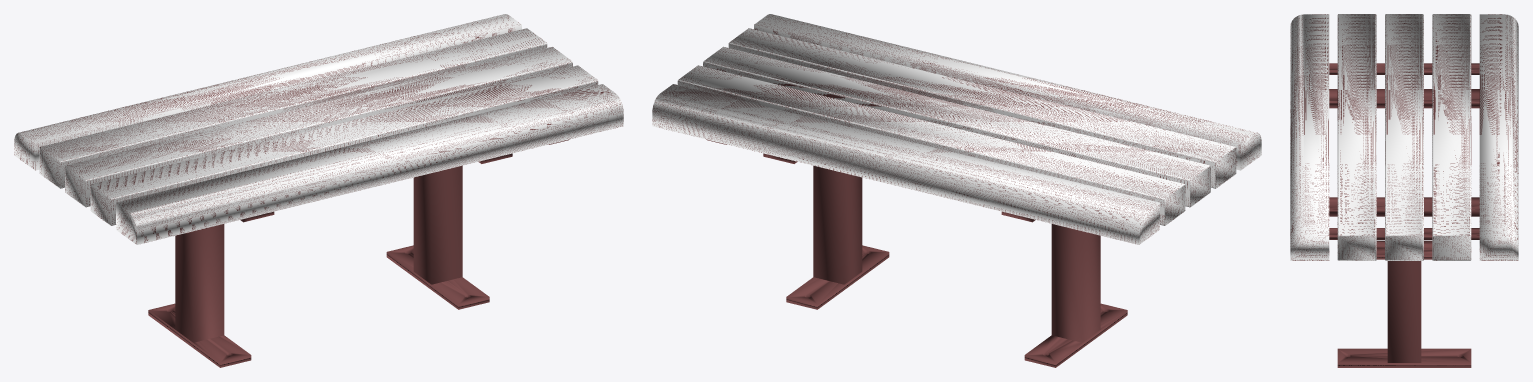
The picture shows the model from 3 angles, left to right: view 1: azimuth 30°, elevation 25°; view 2: azimuth 150°, elevation 25°; view 3: azimuth 270°, elevation 25°; orthographic projection. The views are drawn at different scales.
Parts seen in each view (by area): view 1: mesh11_mesh11-geometry, mesh9_mesh9-geometry, mesh1_mesh1-geometry, mesh4_mesh4-geometry, mesh14_mesh14-geometry, mesh5_mesh5-geometry, mesh6_mesh6-geometry, mesh8_mesh8-geometry; view 2: mesh14_mesh14-geometry, mesh4_mesh4-geometry, mesh1_mesh1-geometry, mesh9_mesh9-geometry, mesh11_mesh11-geometry, mesh5_mesh5-geometry, mesh6_mesh6-geometry, mesh8_mesh8-geometry; view 3: mesh4_mesh4-geometry, mesh9_mesh9-geometry, mesh11_mesh11-geometry, mesh14_mesh14-geometry, mesh1_mesh1-geometry, mesh6_mesh6-geometry, mesh8_mesh8-geometry, mesh10_mesh10-geometry, mesh12_mesh12-geometry, mesh2_mesh2-geometry, mesh3_mesh3-geometry, mesh5_mesh5-geometry.
Part boxes in pixels (left/top/right/bottom): mesh11_mesh11-geometry: left=116, top=84, right=623, bottom=244; mesh9_mesh9-geometry: left=39, top=28, right=547, bottom=188; mesh1_mesh1-geometry: left=65, top=46, right=572, bottom=207; mesh4_mesh4-geometry: left=90, top=65, right=598, bottom=225; mesh14_mesh14-geometry: left=14, top=14, right=521, bottom=170; mesh5_mesh5-geometry: left=148, top=224, right=251, bottom=367; mesh6_mesh6-geometry: left=413, top=165, right=462, bottom=284; mesh8_mesh8-geometry: left=386, top=245, right=489, bottom=309; mesh14_mesh14-geometry: left=652, top=84, right=1159, bottom=244; mesh4_mesh4-geometry: left=728, top=28, right=1236, bottom=188; mesh1_mesh1-geometry: left=703, top=46, right=1210, bottom=207; mesh9_mesh9-geometry: left=677, top=65, right=1185, bottom=225; mesh11_mesh11-geometry: left=754, top=14, right=1261, bottom=170; mesh5_mesh5-geometry: left=1024, top=224, right=1127, bottom=367; mesh6_mesh6-geometry: left=813, top=165, right=862, bottom=284; mesh8_mesh8-geometry: left=786, top=245, right=889, bottom=309; mesh4_mesh4-geometry: left=1337, top=14, right=1376, bottom=260; mesh9_mesh9-geometry: left=1432, top=14, right=1471, bottom=260; mesh11_mesh11-geometry: left=1290, top=14, right=1329, bottom=260; mesh14_mesh14-geometry: left=1479, top=14, right=1518, bottom=260; mesh1_mesh1-geometry: left=1385, top=14, right=1423, bottom=260; mesh6_mesh6-geometry: left=1387, top=261, right=1421, bottom=362; mesh8_mesh8-geometry: left=1337, top=348, right=1471, bottom=367; mesh10_mesh10-geometry: left=1329, top=197, right=1479, bottom=216; mesh12_mesh12-geometry: left=1329, top=89, right=1479, bottom=108; mesh2_mesh2-geometry: left=1329, top=228, right=1479, bottom=239; mesh3_mesh3-geometry: left=1329, top=63, right=1479, bottom=74; mesh5_mesh5-geometry: left=1376, top=240, right=1432, bottom=259.
Bounding box in the file's own units: 0.8647 × 0.3318 × 0.3771.
